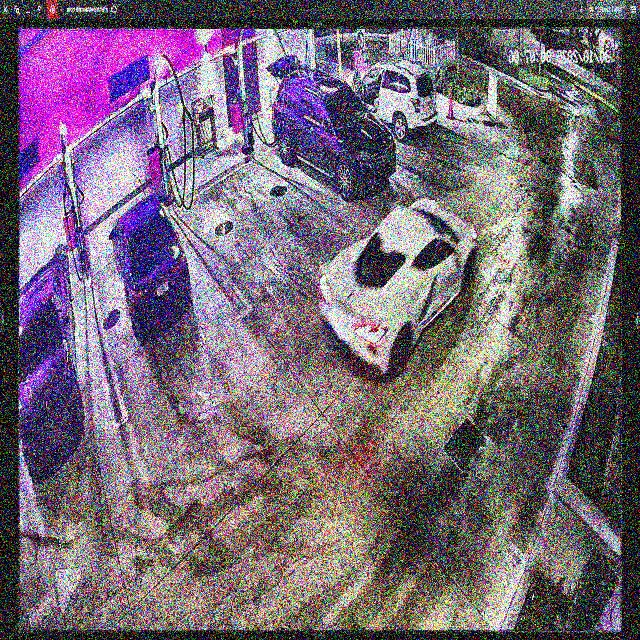Car: (319, 198, 478, 378), (270, 70, 397, 198), (109, 193, 193, 338)
